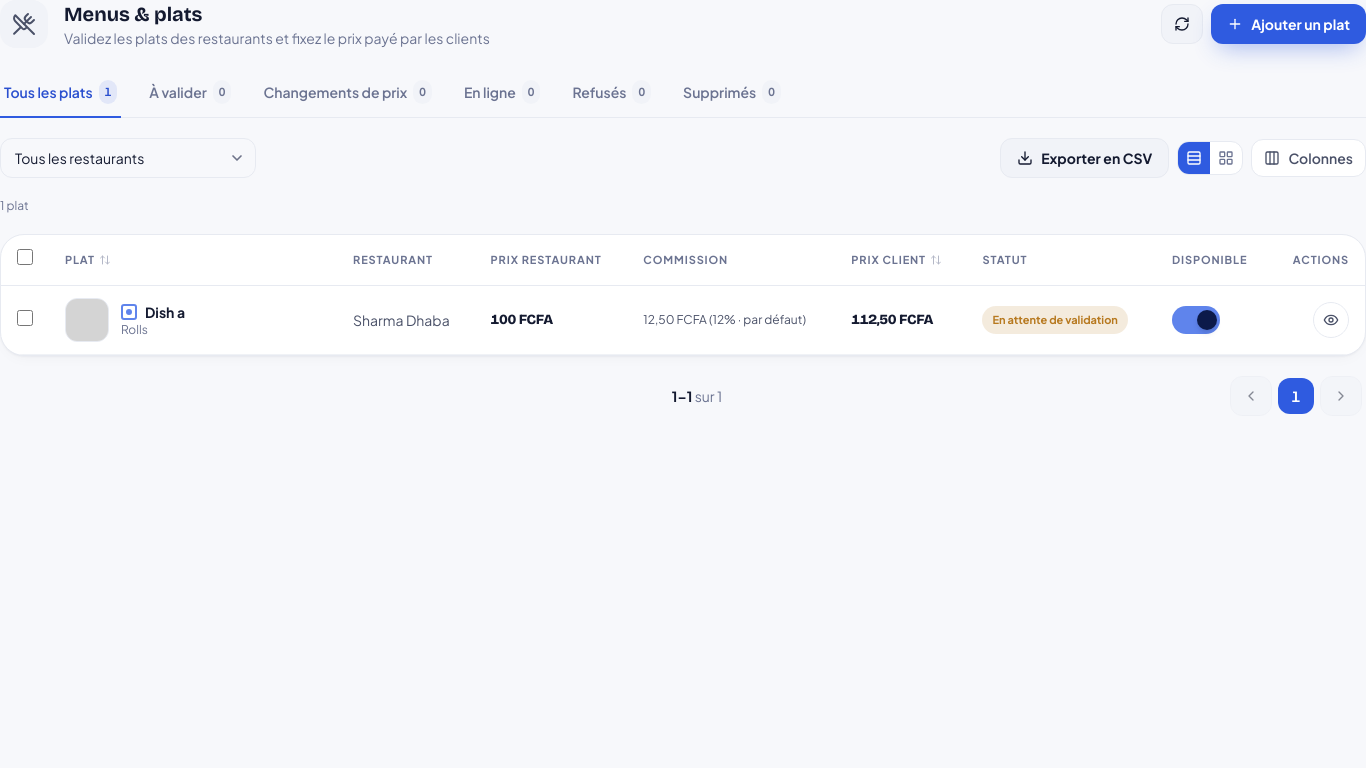
CatalogPanel › opening a row shows the drawer, and a change reloads the list and the sidebar badge
What coordinates should you click on to do the following:
click the row named "Ouvrir Dish a"
I would click on:
 (683, 320)
Its box is top-left (1, 286), bottom-right (1365, 355).
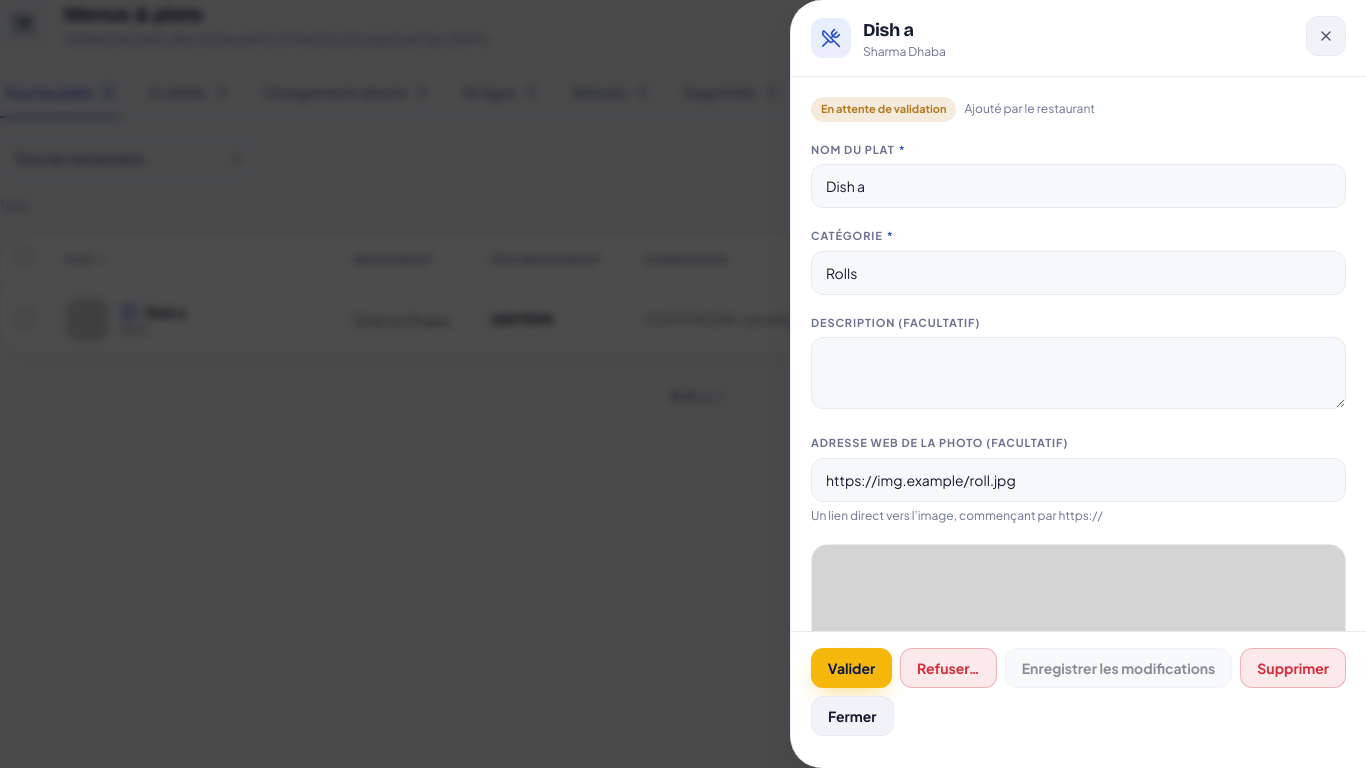
Check: the dialog is shown, box top-left (790, 0), bottom-right (1365, 767)
What coordinates should you click on to do the following:
click the button "Valider"
I would click on:
 (852, 668)
Its box is top-left (811, 648), bottom-right (892, 688).
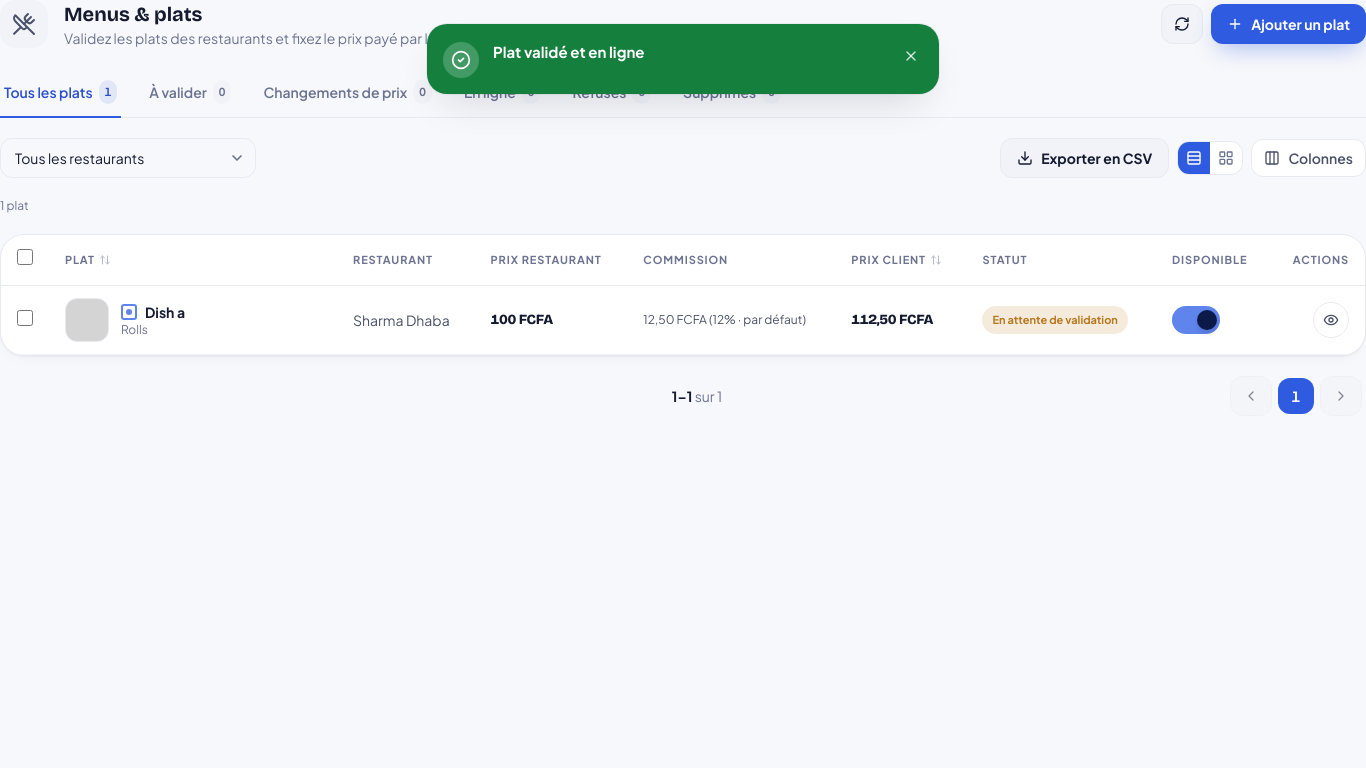
Check: the dialog is gone
